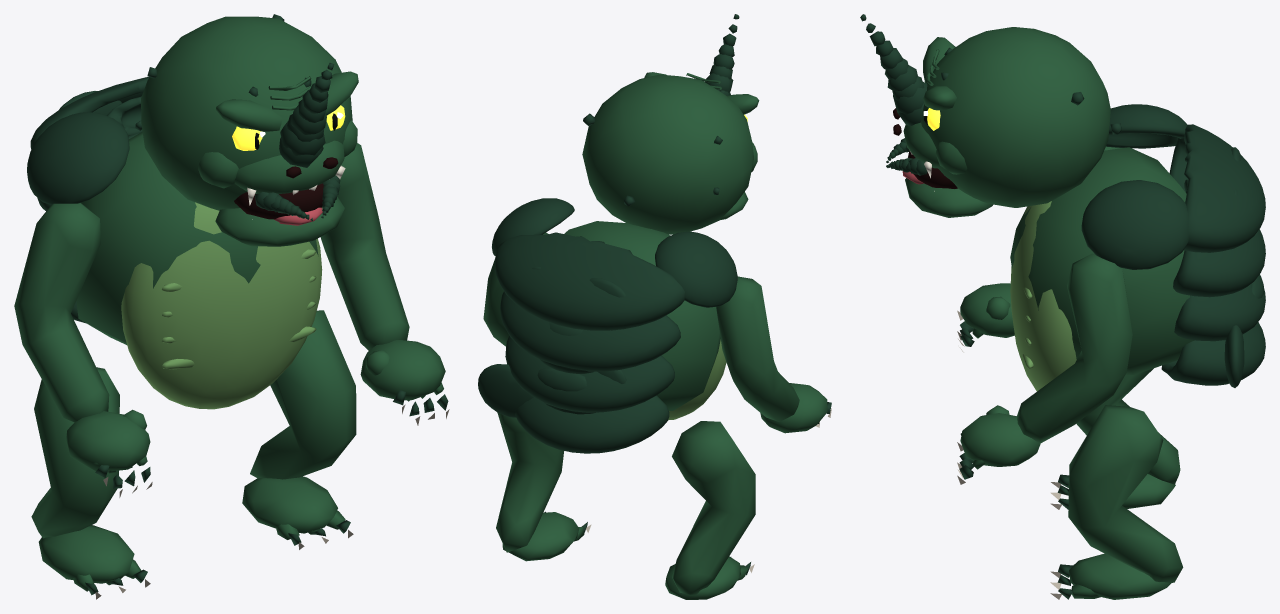
The model's file is panser_0.glb.
3 views of the same model, side by side, from view 1: azimuth 30°, elevation 25°; view 2: azimuth 150°, elevation 25°; view 3: azimuth 270°, elevation 25° (orthographic). The views are drawn at different scales.
Visible parts, largest first — view 1: krop_net, hoved_net, armH_net, benV_net, armV_net, benH_net; view 2: krop_net, hoved_net, benH_net, armH_net, benV_net, armV_net; view 3: krop_net, hoved_net, benV_net, armV_net, benH_net, armH_net.
Boxes of the visible parts, <box> form: krop_net: <box>27,77,322,409</box>; hoved_net: <box>135,14,358,246</box>; armH_net: <box>14,203,152,497</box>; benV_net: <box>242,310,356,549</box>; armV_net: <box>320,143,449,425</box>; benH_net: <box>31,367,150,599</box>; krop_net: <box>478,198,737,453</box>; hoved_net: <box>582,14,759,234</box>; benH_net: <box>665,421,755,599</box>; armH_net: <box>716,276,831,433</box>; benV_net: <box>496,412,591,561</box>; armV_net: <box>483,232,548,346</box>; krop_net: <box>1010,104,1265,391</box>; hoved_net: <box>860,14,1121,217</box>; benV_net: <box>1050,405,1183,599</box>; armV_net: <box>957,253,1132,484</box>; benH_net: <box>1050,368,1180,509</box>; armH_net: <box>957,146,1121,352</box>.
Bounding box in the file's own units: 1.19 × 1.83 × 1.26.
